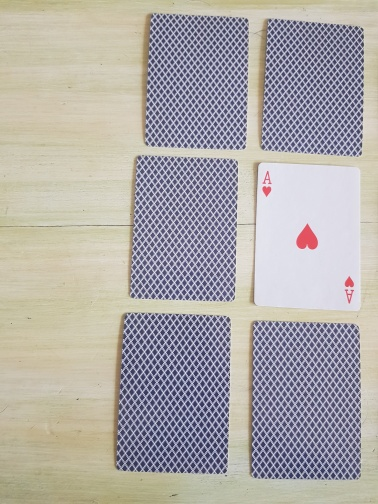ace: (253, 162, 361, 311)
